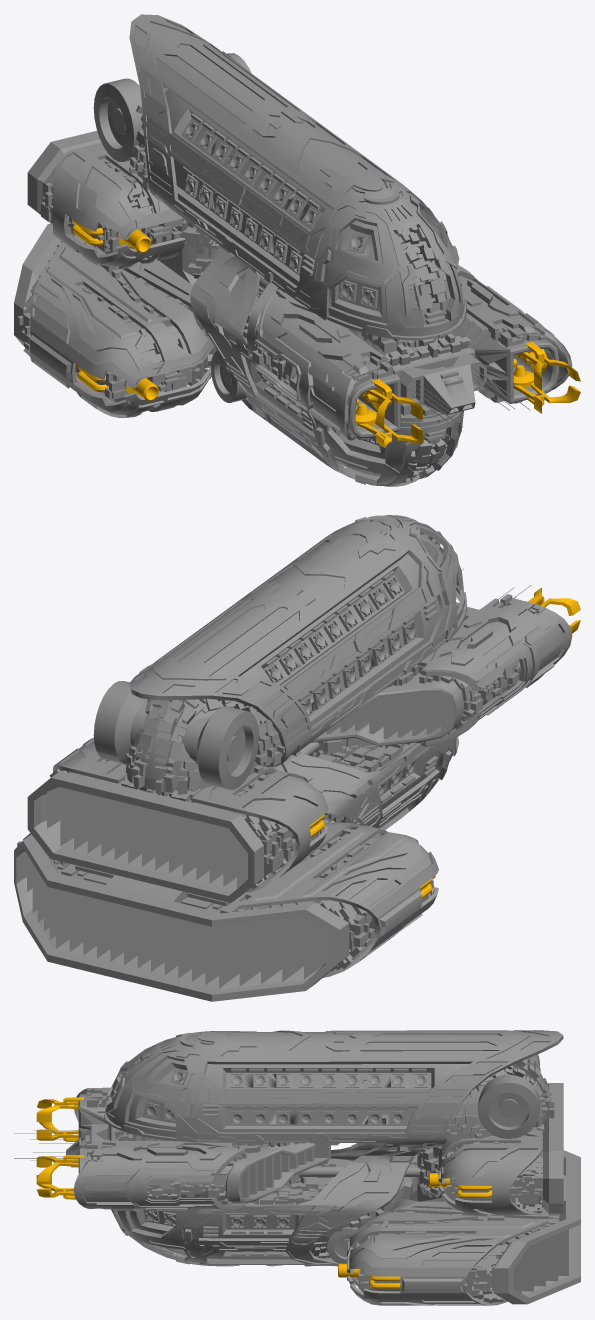
The model's file is Destroyer_FBX.FBX.
3 renders of one model, top to bottom at view 1: azimuth 30°, elevation 25°; view 2: azimuth 150°, elevation 25°; view 3: azimuth 270°, elevation 25°, orthographic. The views are drawn at different scales.
Visible parts, largest first — view 1: Destroyer001, Destroyer002, Destroyer004, Destroyer003; view 2: Destroyer001, Destroyer003, Destroyer002, Destroyer004; view 3: Destroyer001, Destroyer003, Destroyer002, Destroyer004.
Boxes of the visible parts, x1,y1,x2,y2 form: Destroyer001: (14, 14, 465, 440); Destroyer002: (238, 265, 572, 486); Destroyer004: (72, 219, 580, 447); Destroyer003: (151, 208, 263, 418); Destroyer001: (93, 515, 572, 1001); Destroyer003: (14, 737, 358, 1001); Destroyer002: (310, 568, 515, 829); Destroyer004: (309, 588, 580, 898); Destroyer001: (33, 1030, 580, 1232); Destroyer003: (276, 1100, 580, 1305); Destroyer002: (14, 1117, 405, 1266); Destroyer004: (36, 1097, 491, 1288).
Size of the model in its own units: 159 by 125 by 284.
